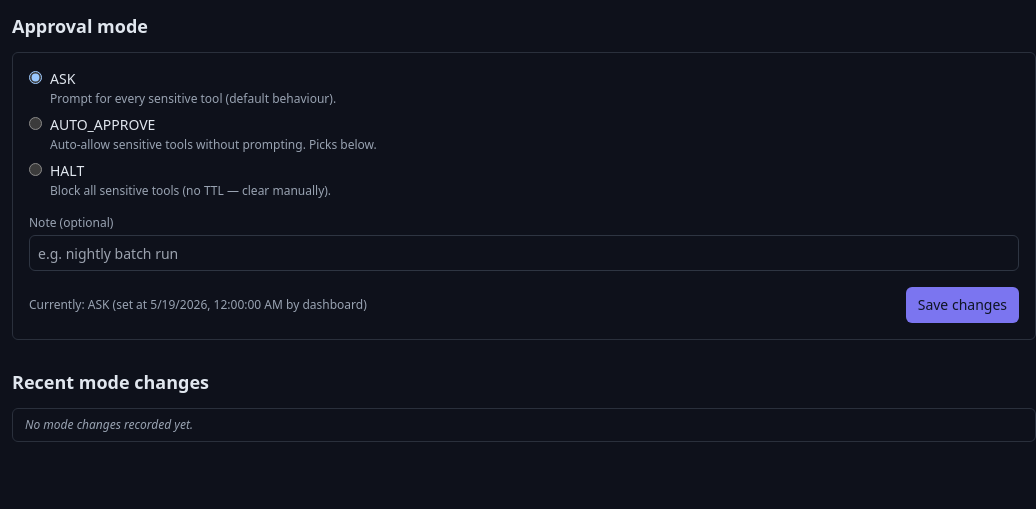
Test: ApprovalModeSection › submits an AUTO_APPROVE PUT with ttl_seconds
This screenshot has width=1036, height=509.
Click the radio button with test id "mode-radio-AUTO_APPROVE".
click(36, 124)  # box [29,117,42,130]
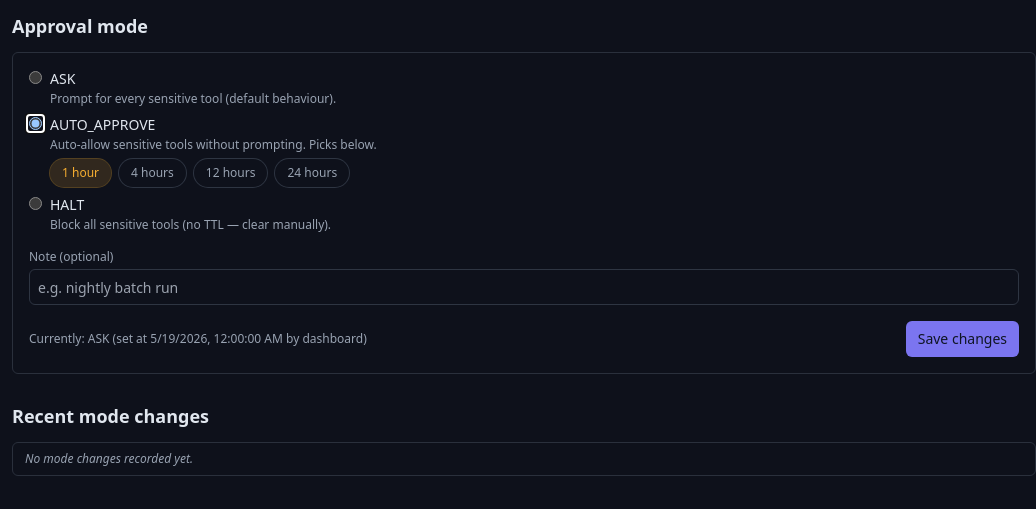
Click the radio button with test id "ttl-radio-14400".
click(152, 173)  # box [119,159,186,187]
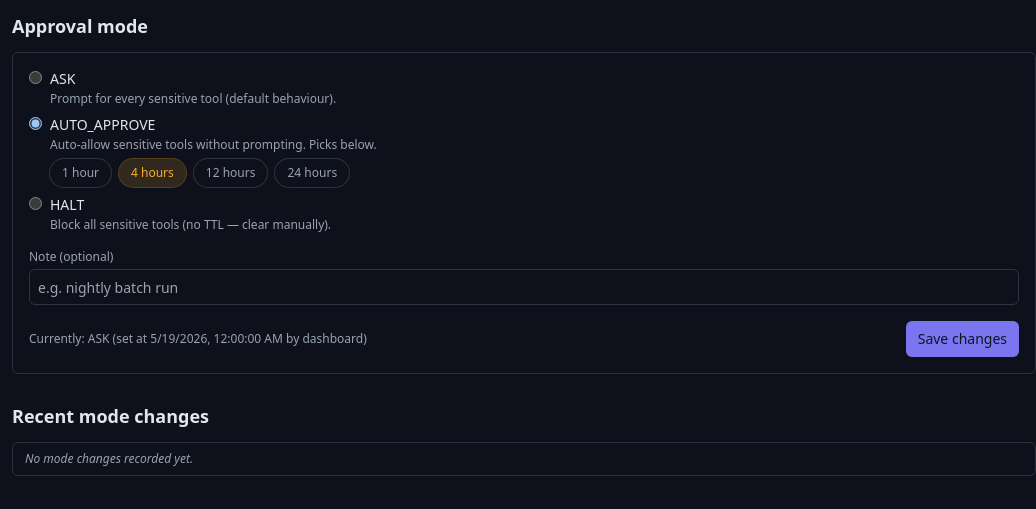
Click the button with test id "mode-save".
click(962, 339)  # box [906,321,1019,357]
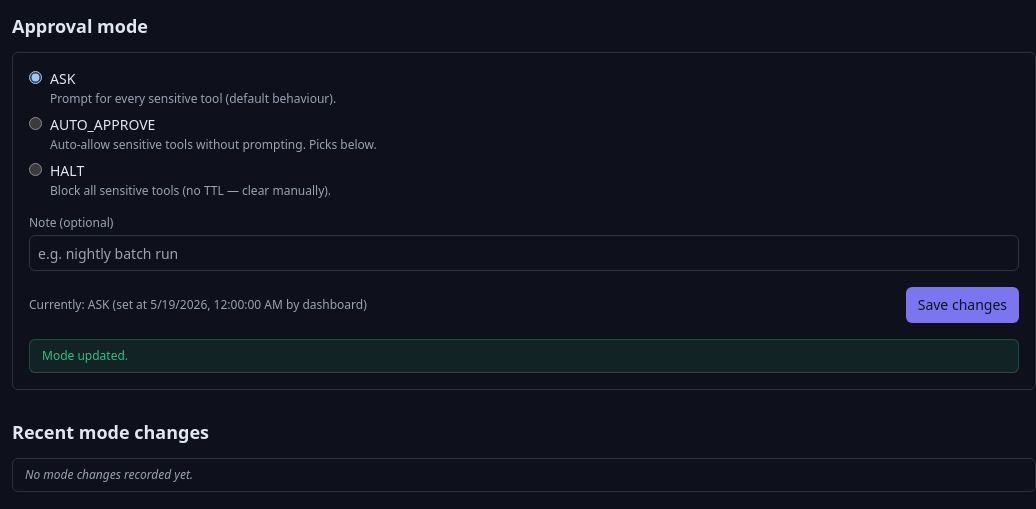
Check: the text "AUTO_APPROVE" is shown, box [50,115,155,134]
Check: the text "Mode updated." is shown, box [29,339,1019,373]
